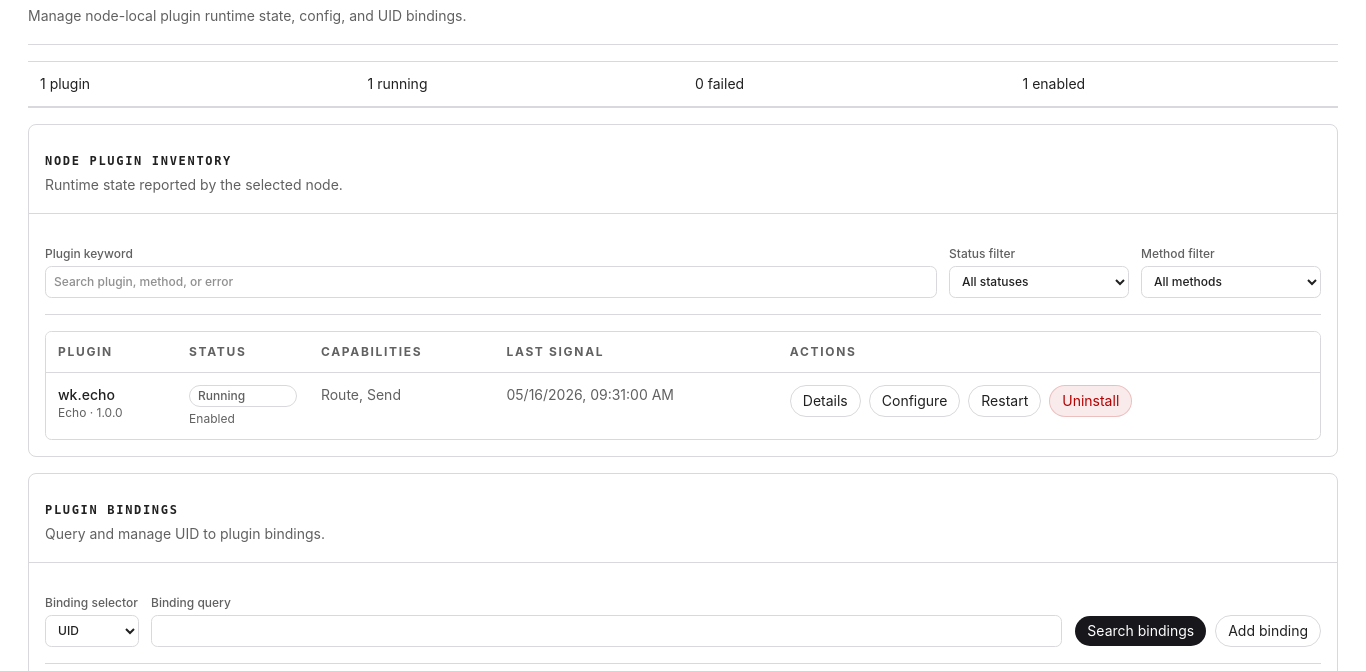
Test case: validates empty binding search
Expected: the text "wk.echo" is shown, [58, 386, 115, 402]
Step 1. Click the button "Search bindings" → [1141, 630], box [1074, 614, 1207, 646]
(page scrolled)
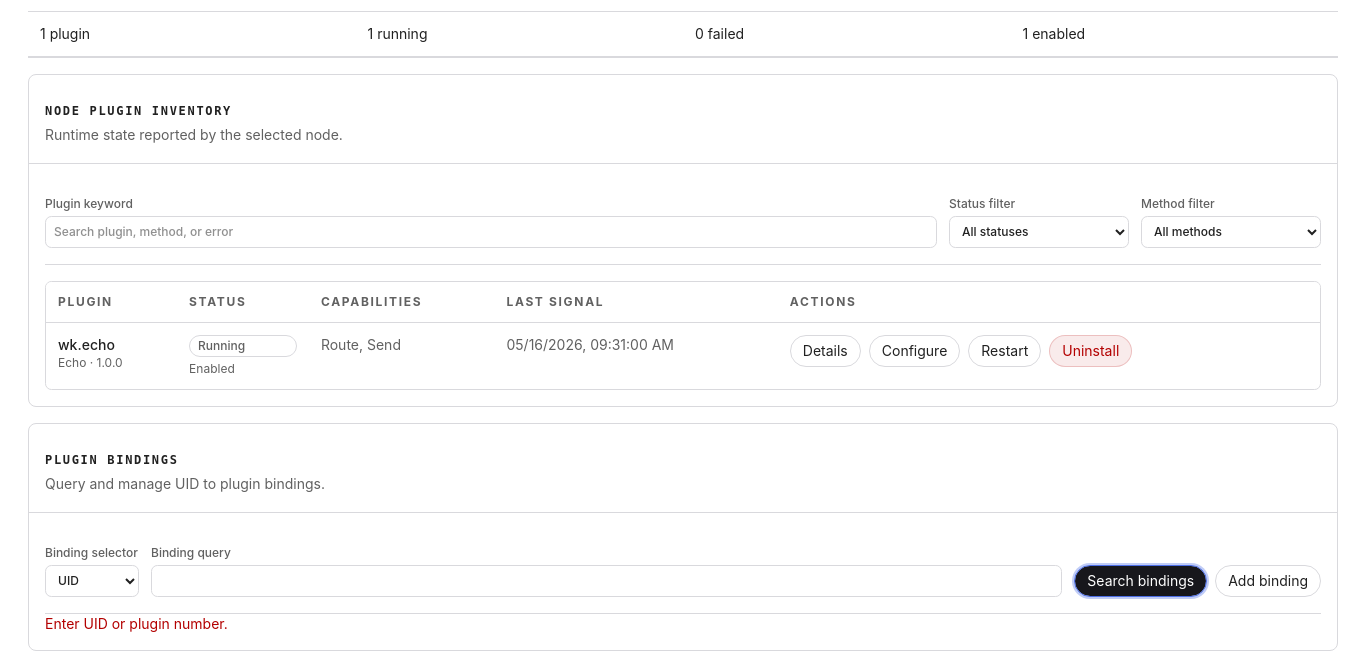
Expected: the text "Enter UID or plugin number." is shown, [45, 614, 228, 632]
